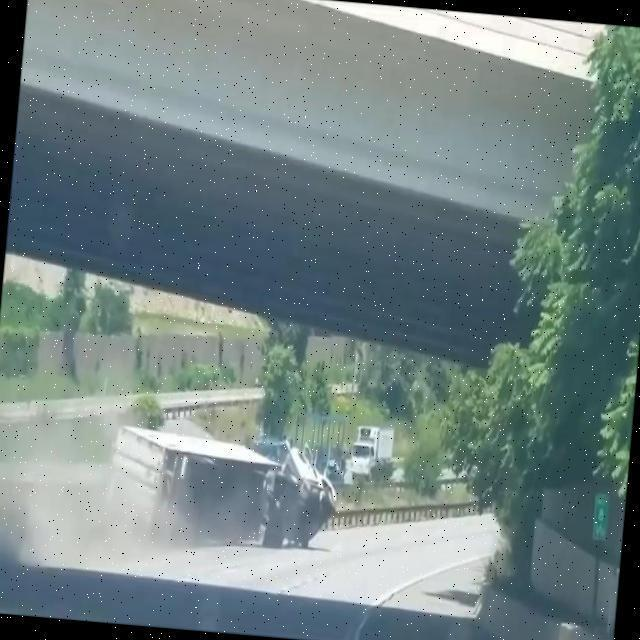accident: (98, 413, 346, 569)
